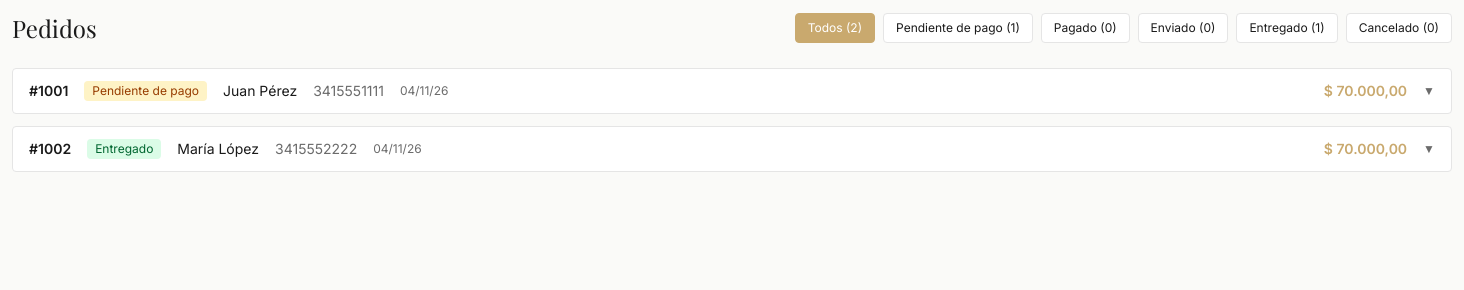
Test: AdminOrders › no muestra acciones en un pedido entregado (estado terminal)
Click the text "#1002" at (50, 149), box x1=29 y1=139 x2=71 y2=159
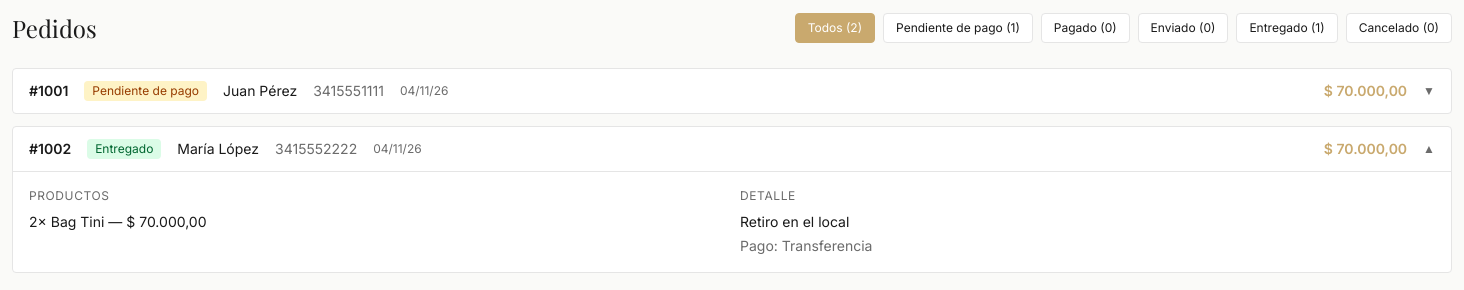
Check: the list item "2× Bag Tini — $ 70.000,00" is shown, box x1=29 y1=213 x2=206 y2=230
